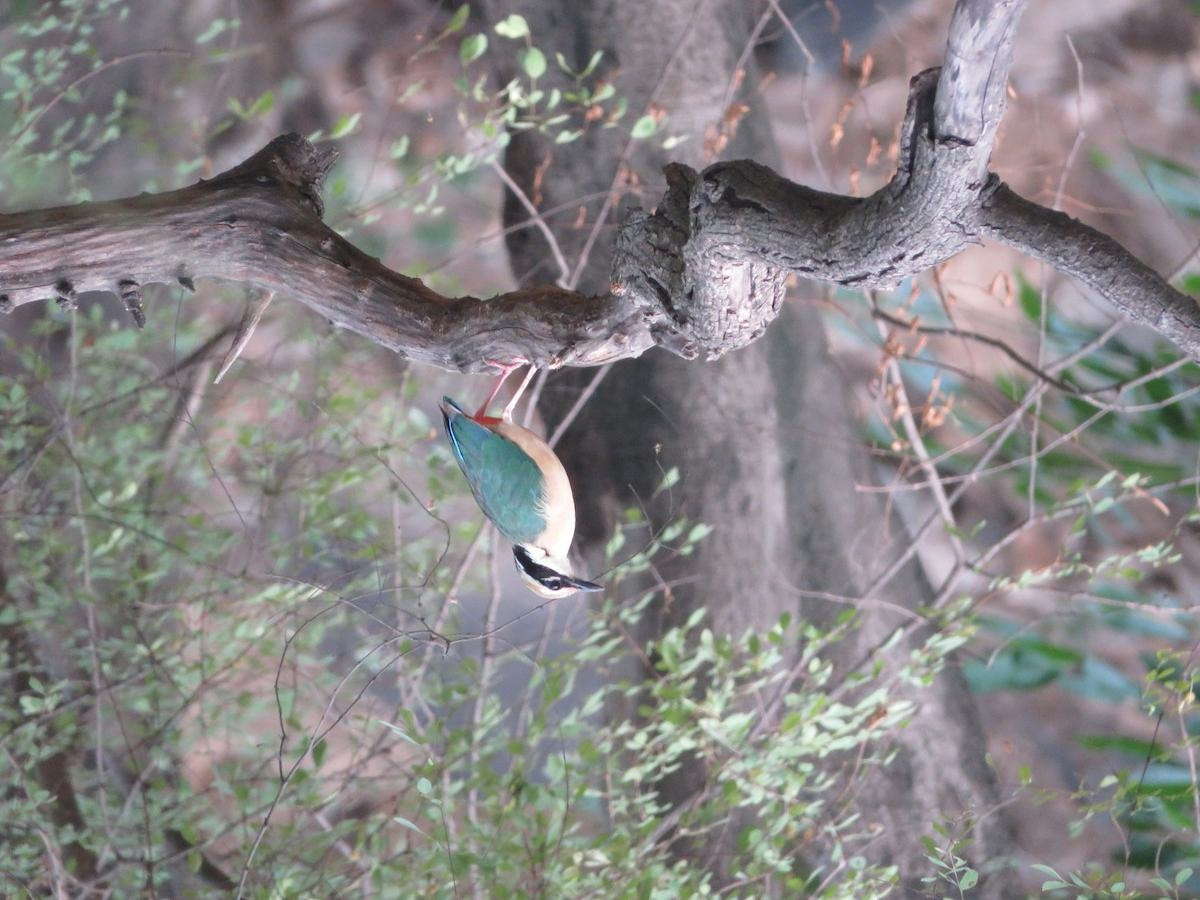pitta: (413, 346, 619, 606)
